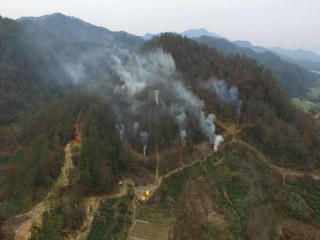smoke: (82, 40, 244, 157)
